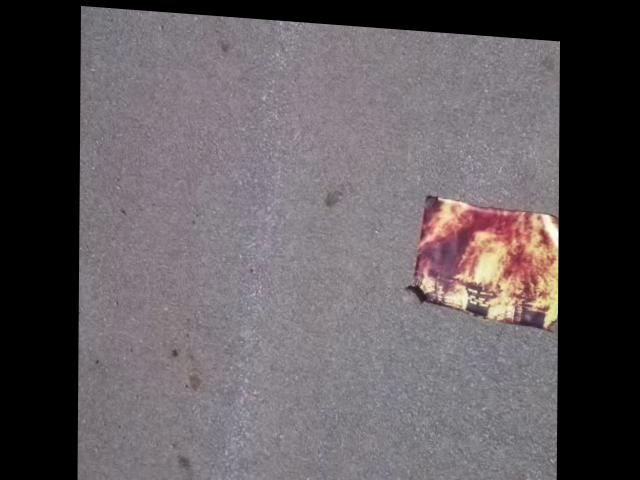fire-poster: (402, 184, 558, 326)
